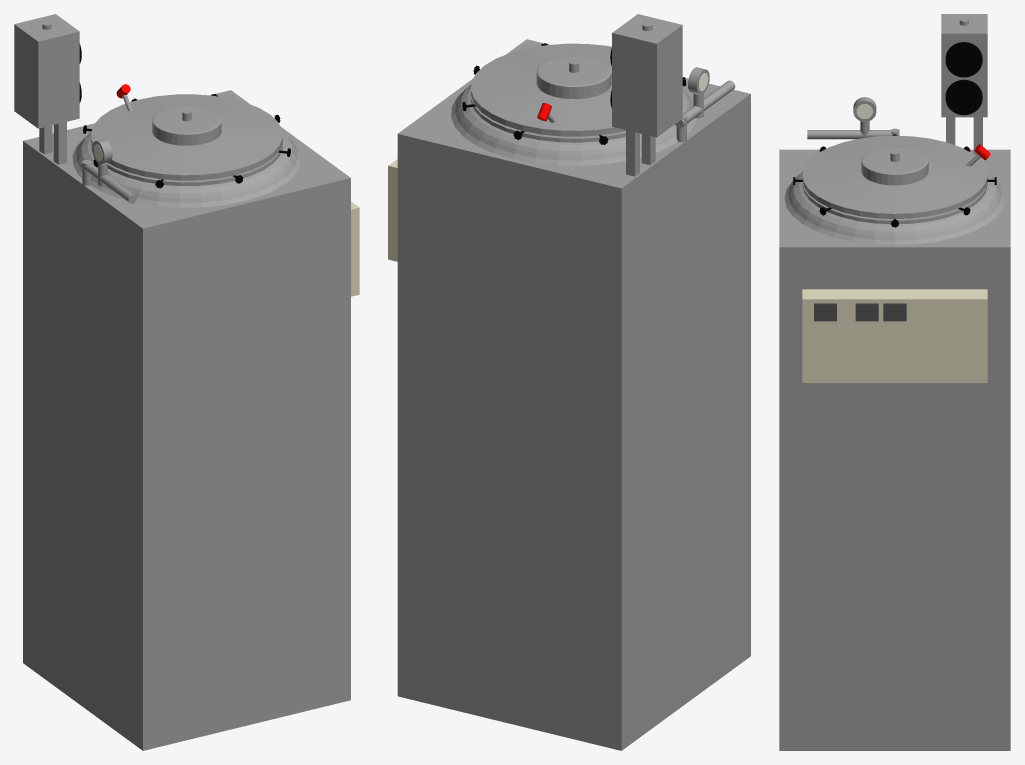
The model's file is RiceCooker.glb.
3 views of the same model, side by side, from view 1: azimuth 30°, elevation 25°; view 2: azimuth 150°, elevation 25°; view 3: azimuth 270°, elevation 25° (orthographic). The views are drawn at different scales.
Visible parts, largest first — view 1: Cube.005; view 2: Cube.005; view 3: Cube.005.
Part boxes in pixels (x1=…): Cube.005: x1=14, y1=14, x2=359, y2=750; Cube.005: x1=388, y1=14, x2=750, y2=750; Cube.005: x1=779, y1=14, x2=1010, y2=750.
Size of the model in its own units: 6.05 by 15.1 by 5.
